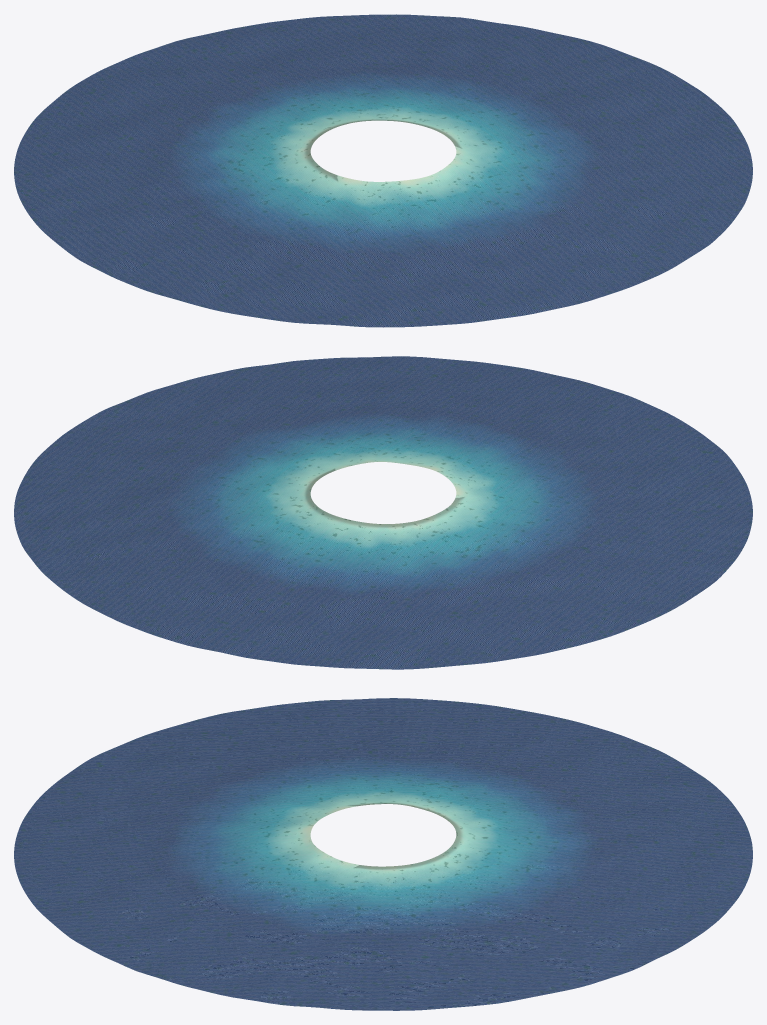
Rendered from fond.glb.
The picture shows the model from 3 angles, top to bottom: view 1: azimuth 30°, elevation 25°; view 2: azimuth 150°, elevation 25°; view 3: azimuth 270°, elevation 25°; orthographic projection.
Parts seen in each view (by area): view 1: fond; view 2: fond; view 3: fond.
Boxes of the visible parts, left/top/right/bottom form: fond: left=14, top=14, right=752, bottom=327; fond: left=14, top=356, right=752, bottom=669; fond: left=14, top=698, right=752, bottom=1010.
Bounding box in the file's own units: 274 × 8.62 × 274.
1 material, 1 textured.
